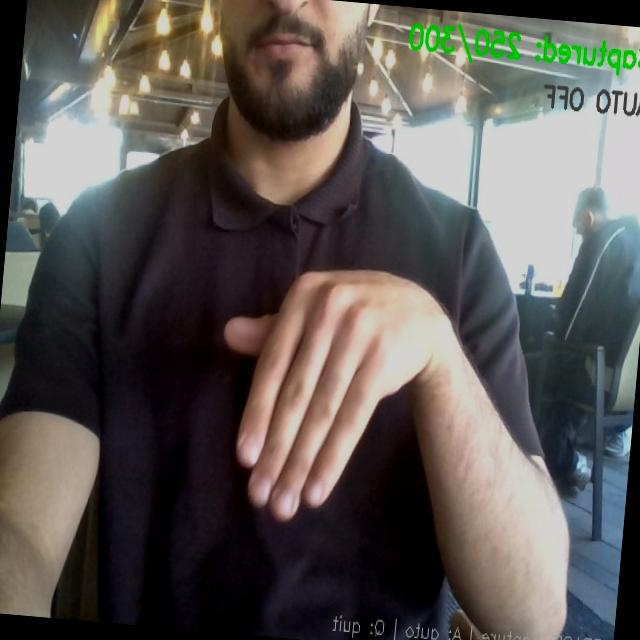Hand: (224, 271, 450, 519)
